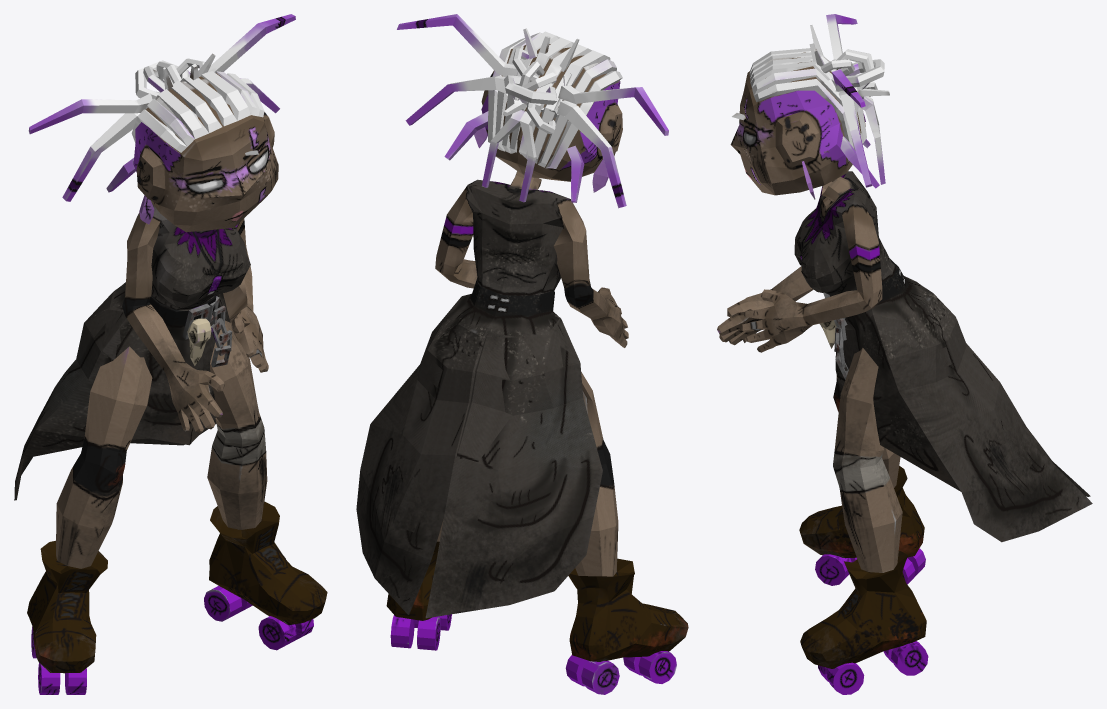
File: bruja_000034.obj
The picture shows the model from 3 angles, left to right: view 1: azimuth 30°, elevation 25°; view 2: azimuth 150°, elevation 25°; view 3: azimuth 270°, elevation 25°; orthographic projection. The views are drawn at different scales.
Parts seen in each view (by area): view 1: Bruja_Plane.001; view 2: Bruja_Plane.001; view 3: Bruja_Plane.001.
Boxes of the visible parts, x1,y1,x2,y2 form: Bruja_Plane.001: (14, 14, 327, 694); Bruja_Plane.001: (356, 14, 688, 694); Bruja_Plane.001: (717, 14, 1092, 694).
Bounding box in the file's own units: 7.83 × 16.32 × 9.21.
